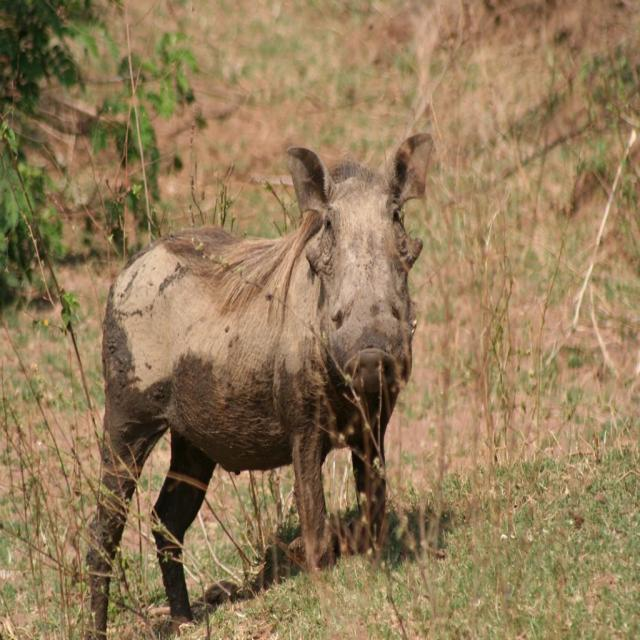Pig: (84, 132, 433, 640)
